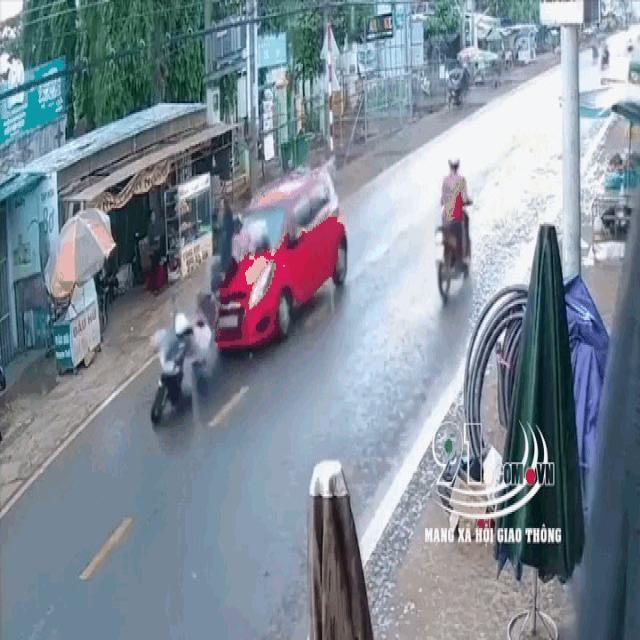multiple_accident: (145, 161, 350, 432)
normal: (421, 144, 477, 306)
